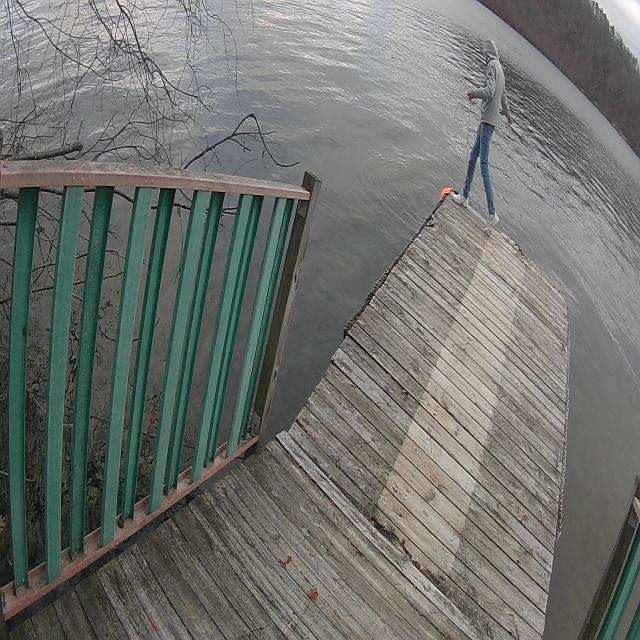Buoy: (438, 178, 453, 205)
